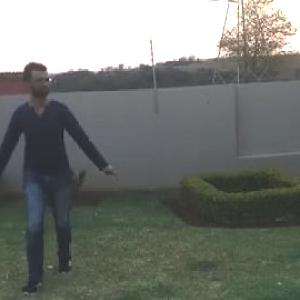land: (1, 55, 118, 296)
